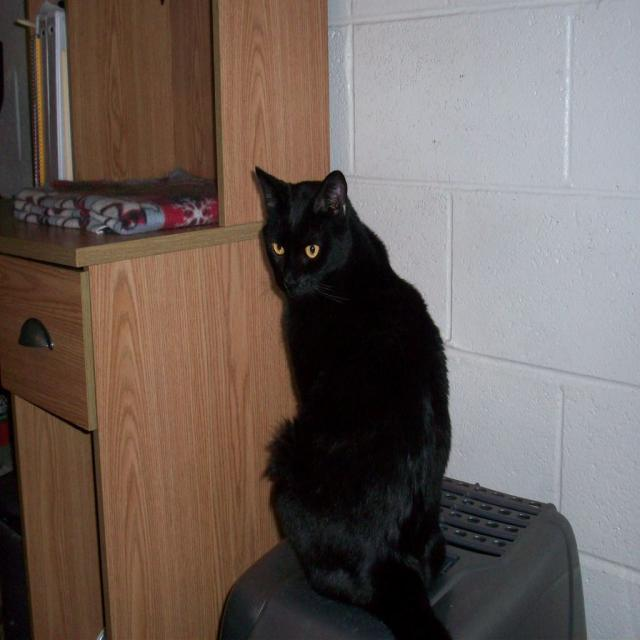Cat: (252, 157, 462, 638)
